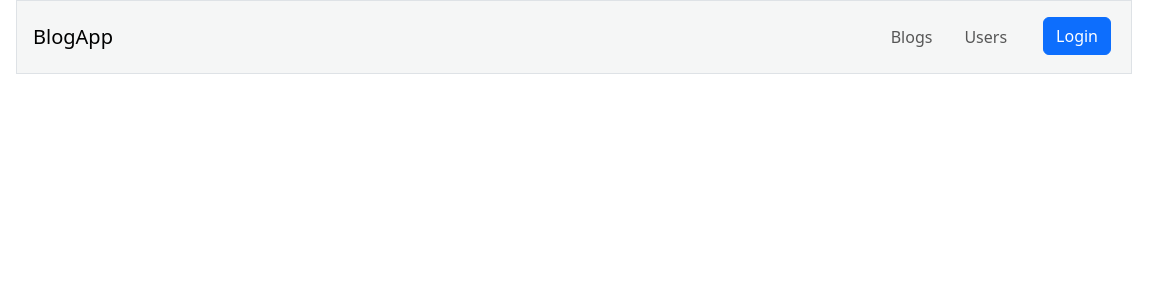
Scenario: Blog app › Login form is shown
The width and height of the screenshot is (1149, 281).
Step 1. Click the button "Login" → {"x": 1077, "y": 36}, box [1043,17,1111,55]
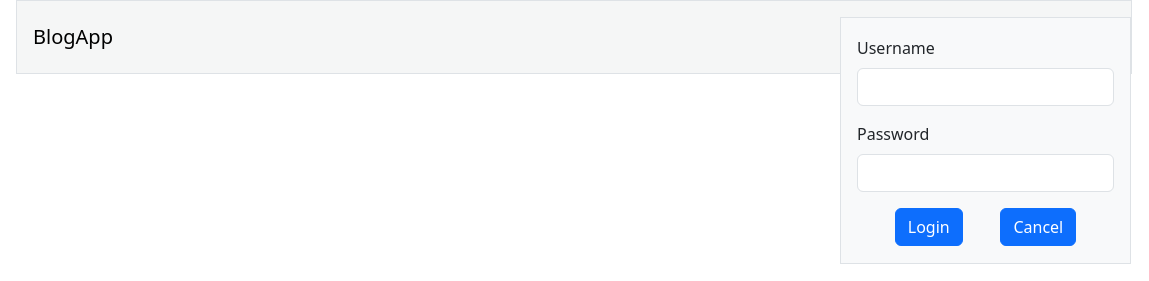
Expected: the text "Username" is shown, [857,36,935,60]
Expected: the text "Password" is shown, [857,122,929,146]
